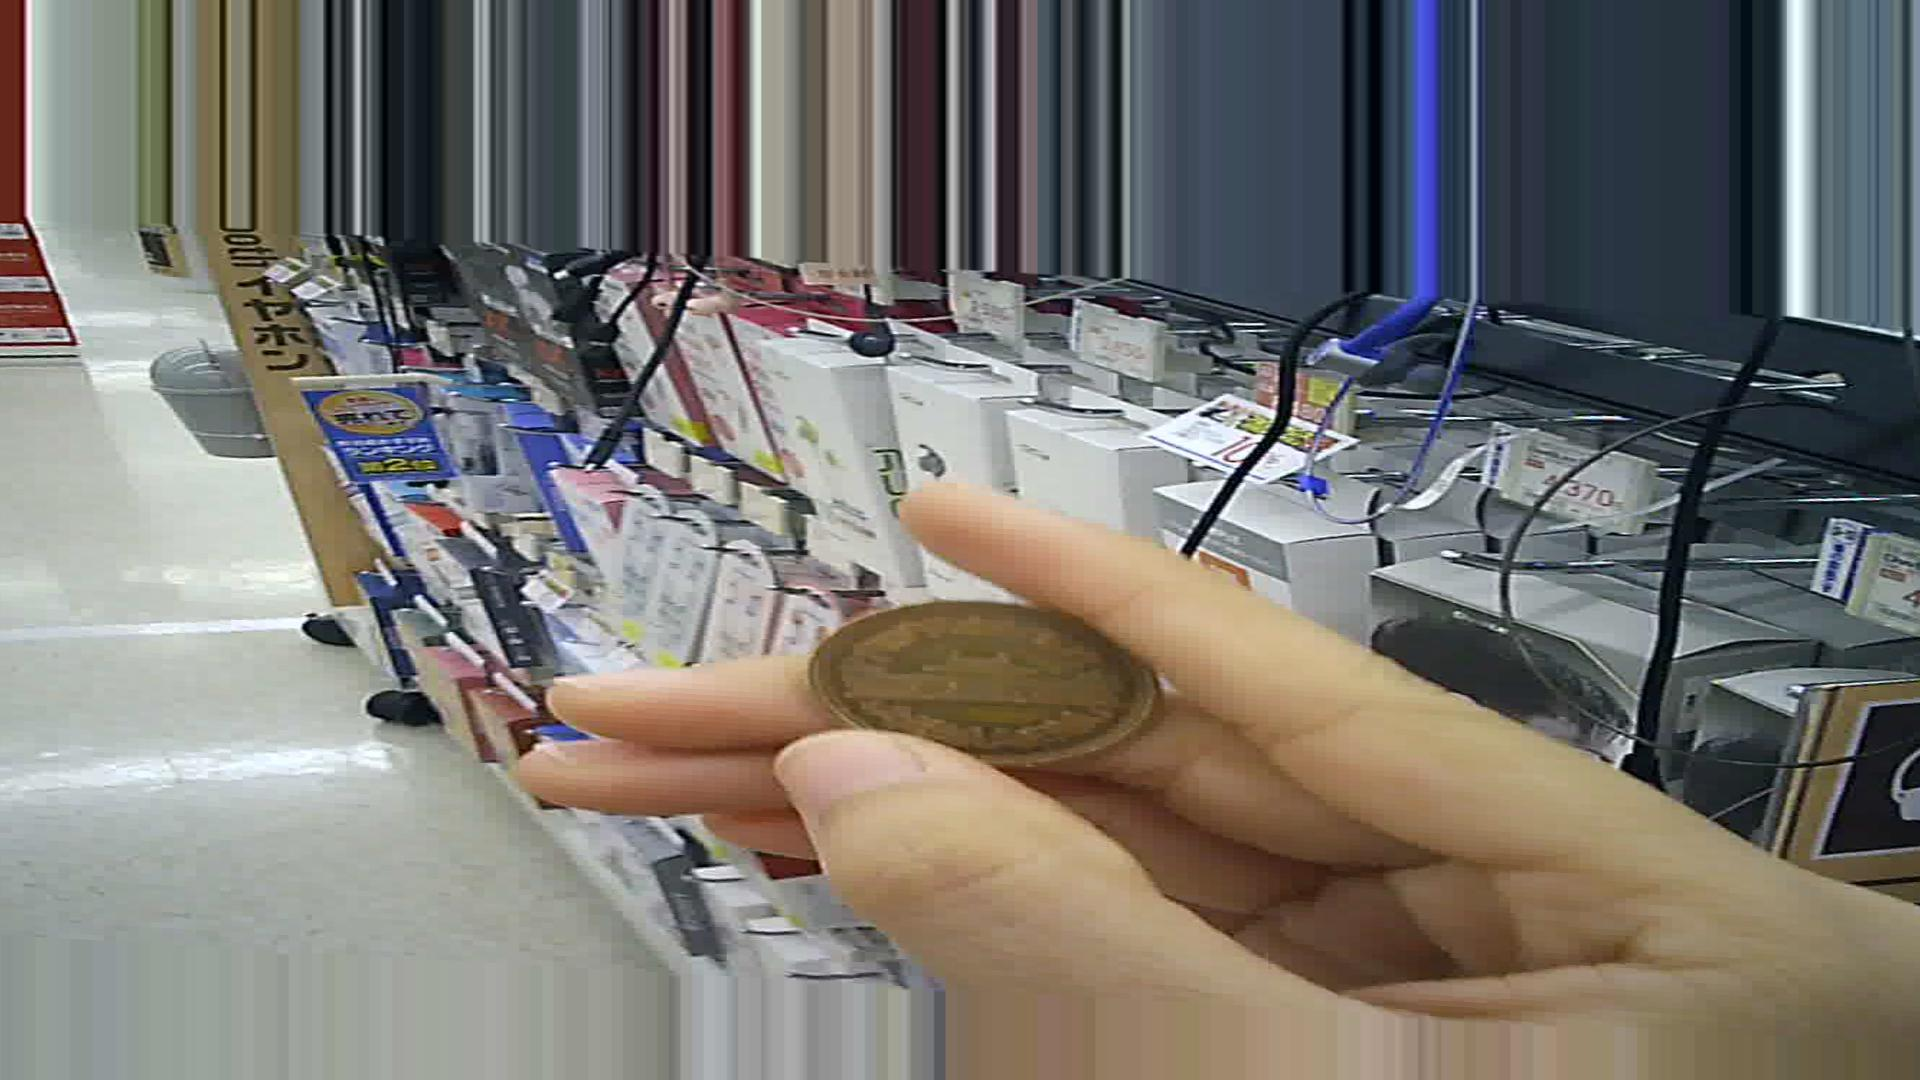10 Yen: (804, 591, 1167, 779)
